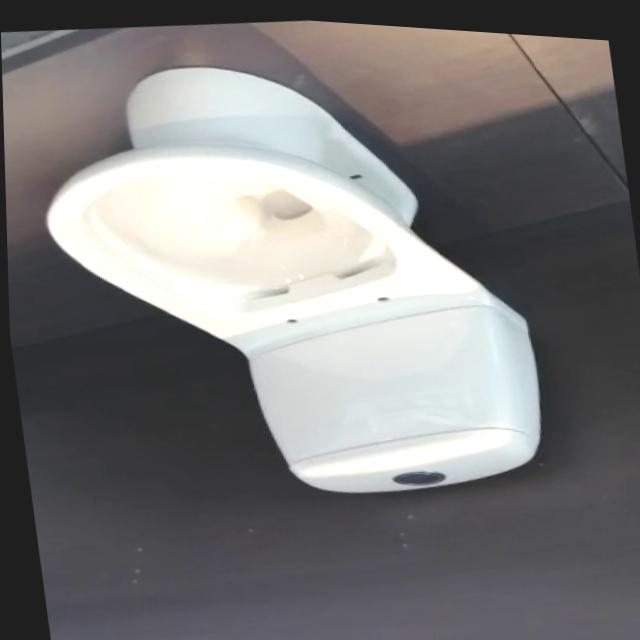toilet: (24, 23, 552, 529)
